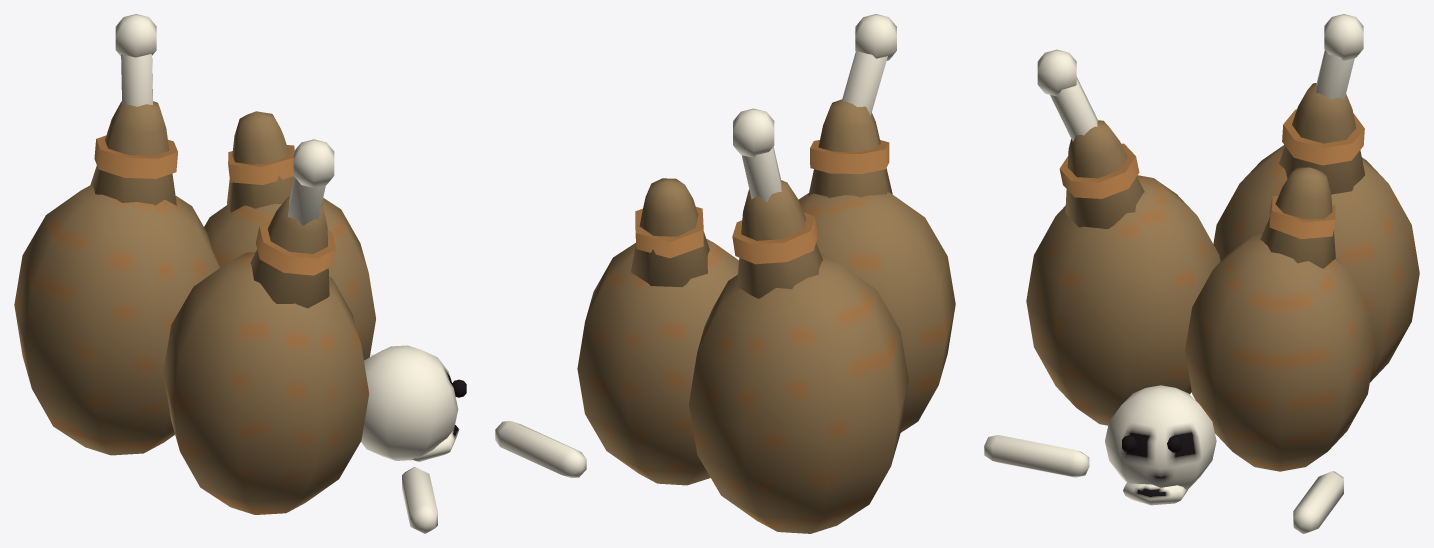
File: prop_sacks1_f68f.glb
3 views of the same model, side by side, from view 1: azimuth 30°, elevation 25°; view 2: azimuth 150°, elevation 25°; view 3: azimuth 270°, elevation 25° (orthographic). The views are drawn at different scales.
Visible parts, largest first — view 1: prop_sacks1_f68f; view 2: prop_sacks1_f68f; view 3: prop_sacks1_f68f.
Boxes of the visible parts, <box> form: prop_sacks1_f68f: <box>14,14,466,533</box>; prop_sacks1_f68f: <box>495,14,955,533</box>; prop_sacks1_f68f: <box>984,14,1419,533</box>.
Bounding box in the file's own units: 1.15 × 1.14 × 1.13.
1 material, 1 textured.
